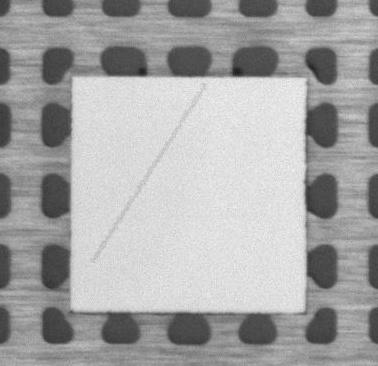DIE_CRACK: (96, 82, 212, 253)
